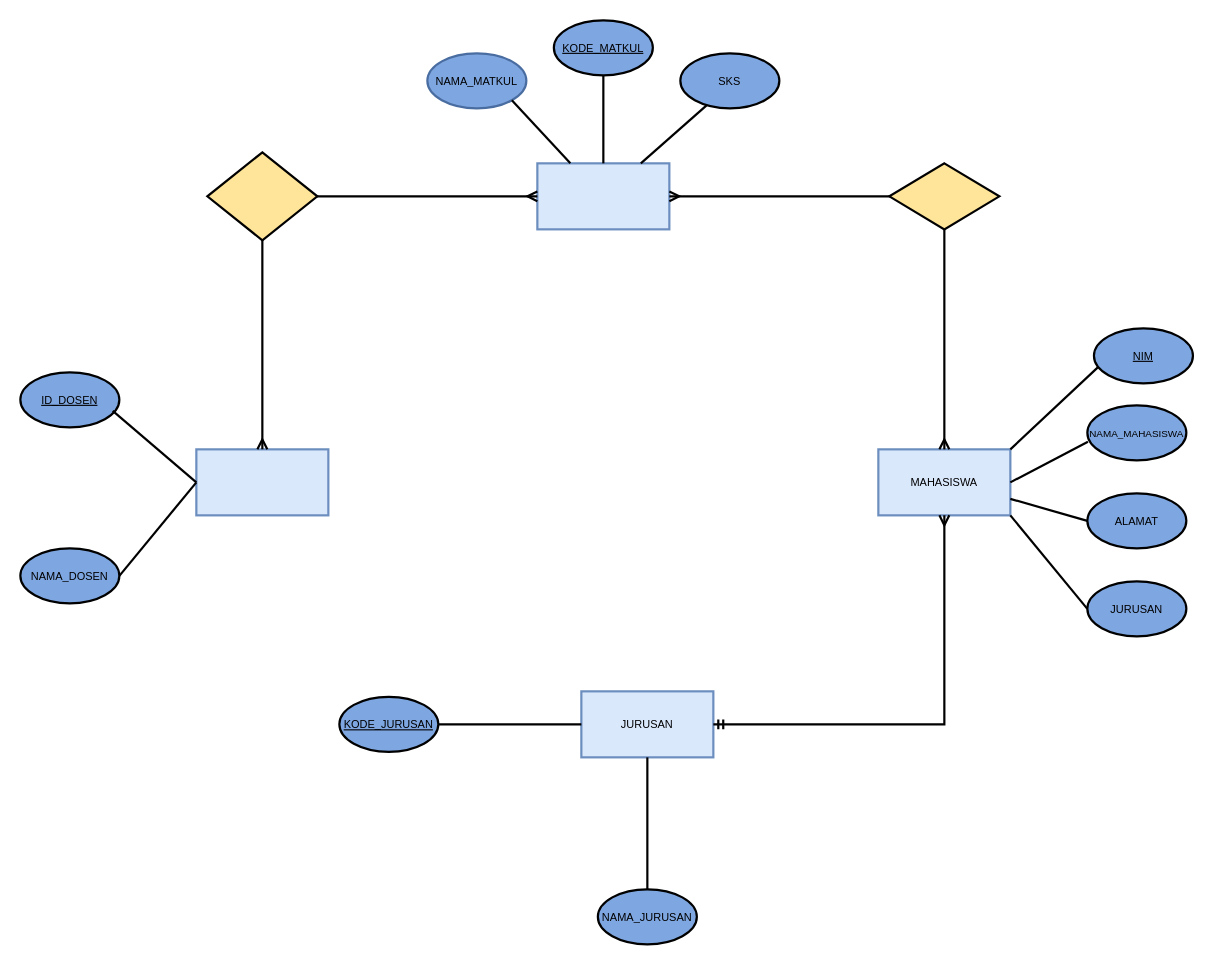
Image size: 1212x964. Some labels were removed from this diagram. Each missing label, with the box of its shape:
BELAJAR: (888, 162, 1000, 230)
DOSEN: (195, 448, 329, 516)
MATA KULIAH: (536, 162, 670, 230)
MENGAJAR: (206, 151, 318, 241)
